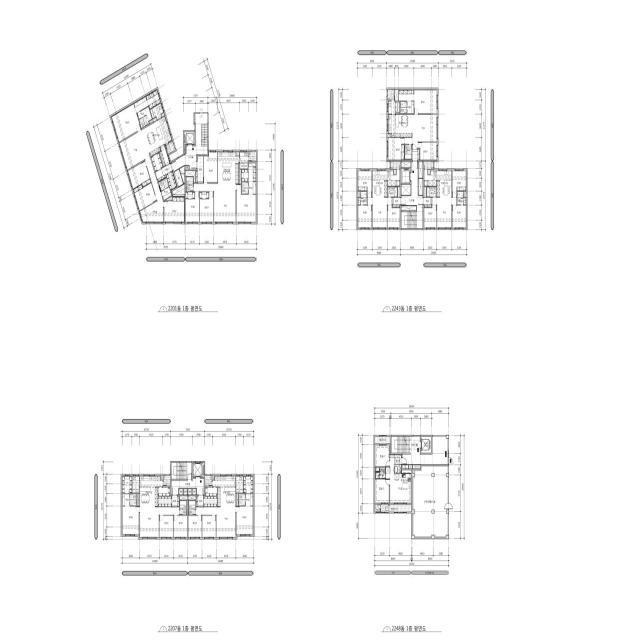space_balconi: (381, 505, 412, 512), (166, 141, 175, 154), (375, 436, 390, 443), (249, 151, 256, 161)
space_bedroom: (111, 103, 141, 142), (237, 184, 256, 223), (127, 161, 151, 189), (133, 183, 156, 211), (164, 197, 185, 223), (414, 90, 437, 113), (122, 506, 139, 535), (237, 506, 253, 535), (186, 192, 199, 223), (200, 192, 213, 223), (204, 151, 217, 182), (452, 171, 466, 197), (358, 171, 372, 197), (388, 138, 404, 160), (418, 142, 437, 160), (375, 479, 389, 503), (188, 516, 202, 538), (202, 516, 216, 538), (159, 516, 173, 538), (358, 205, 372, 227), (452, 205, 466, 227), (375, 445, 389, 466), (174, 516, 187, 538), (424, 205, 437, 227), (388, 205, 400, 227), (200, 192, 209, 198), (186, 192, 194, 198)
space_dressroom: (146, 89, 161, 109), (122, 475, 132, 493), (399, 90, 414, 101), (244, 475, 253, 493), (249, 163, 256, 181), (242, 170, 248, 181)
space_elevator: (421, 437, 431, 453), (193, 463, 204, 477), (184, 132, 195, 145), (401, 169, 410, 183)
space_elevator_hall: (171, 114, 207, 171), (403, 436, 448, 464), (401, 162, 423, 211), (171, 479, 204, 494)
space_front: (155, 163, 172, 181), (151, 153, 163, 171), (166, 171, 177, 190), (196, 156, 203, 183), (204, 496, 217, 506), (158, 497, 171, 506), (390, 455, 402, 464), (412, 149, 419, 160), (424, 198, 432, 207), (172, 496, 179, 506), (196, 496, 203, 506), (393, 198, 400, 207)
space_kitchen: (142, 116, 172, 156), (424, 170, 452, 198), (373, 170, 400, 198), (140, 475, 163, 507), (212, 475, 235, 507), (218, 151, 239, 184), (388, 115, 412, 137), (395, 474, 411, 490), (158, 487, 170, 496), (205, 488, 217, 496)
space_living_room: (119, 130, 163, 223), (194, 184, 236, 223), (196, 507, 236, 538), (139, 507, 179, 538), (386, 458, 411, 503), (405, 115, 437, 149), (368, 198, 392, 228), (432, 198, 456, 227)
space_other: (413, 466, 448, 537), (159, 145, 170, 167), (150, 103, 164, 120), (388, 100, 400, 114), (174, 169, 183, 187), (240, 151, 249, 169), (173, 184, 185, 195), (236, 475, 243, 493), (132, 475, 139, 493), (186, 170, 195, 182), (401, 185, 411, 195), (376, 468, 385, 478), (180, 166, 185, 183), (418, 162, 423, 178), (418, 179, 423, 195), (401, 206, 416, 210), (401, 162, 411, 167), (395, 465, 401, 473), (149, 117, 157, 123), (375, 505, 381, 512), (188, 496, 196, 500), (180, 496, 187, 500), (165, 196, 172, 200), (402, 470, 411, 473), (236, 494, 238, 506), (137, 494, 139, 506), (396, 90, 398, 101), (413, 465, 420, 468), (179, 489, 183, 494), (192, 489, 196, 494), (188, 489, 192, 494), (398, 187, 400, 197), (424, 187, 426, 197), (184, 146, 186, 154), (161, 113, 165, 117), (403, 465, 408, 468), (184, 489, 187, 494), (236, 151, 239, 156), (240, 170, 241, 184), (185, 166, 189, 169), (358, 191, 360, 197), (464, 191, 466, 197), (409, 465, 412, 468), (388, 134, 391, 137), (212, 476, 214, 480), (394, 171, 396, 174), (428, 171, 430, 174)
space_outdoor_room: (205, 475, 212, 486), (388, 89, 395, 100), (164, 475, 170, 486), (391, 162, 400, 169), (424, 162, 433, 169)
space_staircase: (401, 211, 423, 228), (171, 463, 192, 479), (391, 437, 410, 453), (201, 124, 207, 146)
space_toilet: (137, 107, 152, 128), (134, 96, 148, 113), (400, 101, 414, 113), (161, 187, 172, 200), (457, 192, 466, 205), (358, 192, 367, 204), (180, 501, 187, 515), (189, 501, 196, 515), (405, 145, 412, 159), (186, 177, 193, 191), (427, 187, 436, 197), (388, 187, 397, 197), (123, 494, 130, 506), (246, 494, 253, 506), (249, 182, 256, 194), (163, 178, 169, 189), (159, 180, 165, 191), (239, 494, 245, 500), (242, 182, 248, 188), (242, 188, 248, 194), (130, 494, 137, 499), (130, 500, 137, 505), (239, 500, 245, 505)
